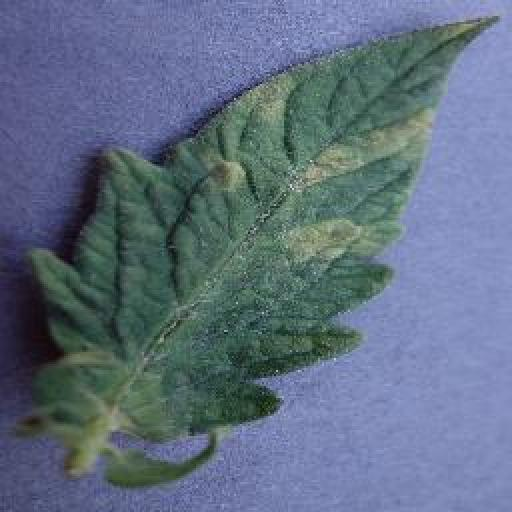disease_tomato: (30, 13, 497, 443)
